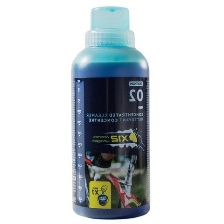cleaning_solution: (67, 3, 153, 221)
